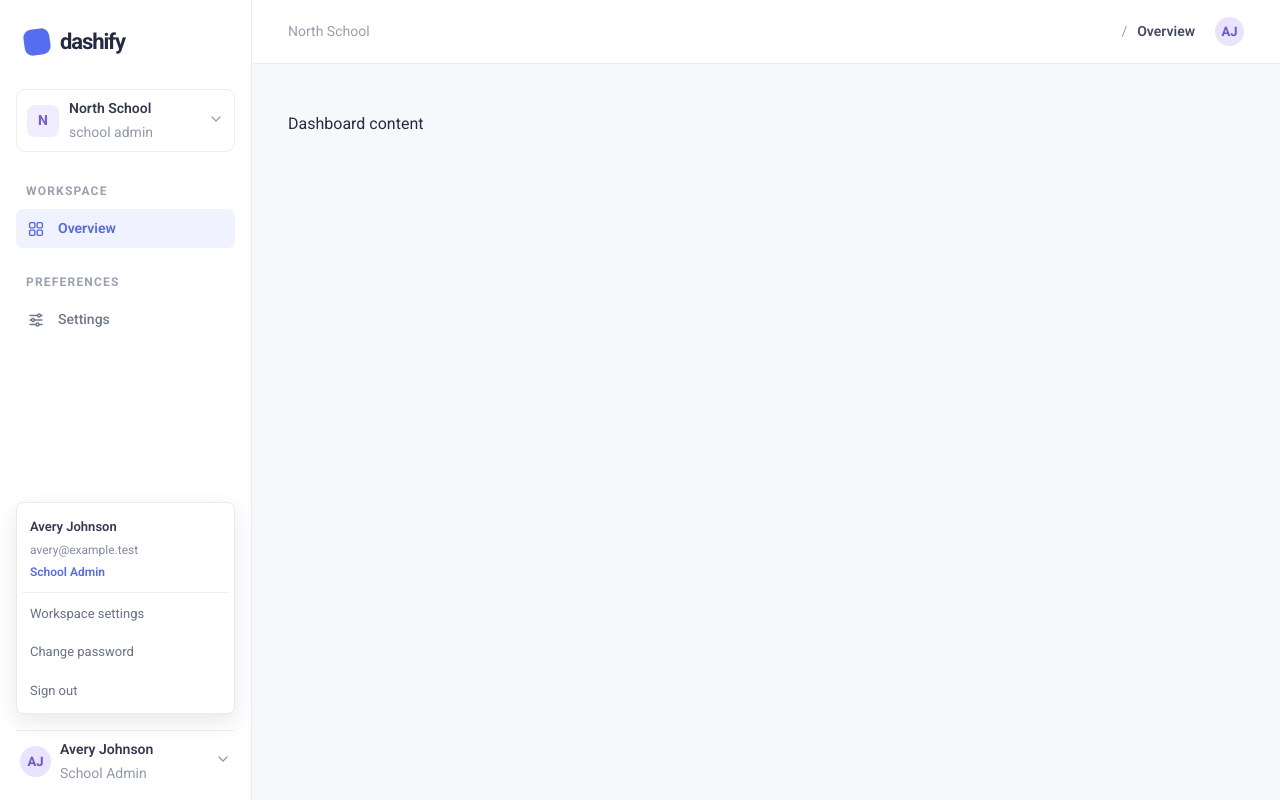
Test: auth session and workspace UI › validates and changes the password from the account popup
Earlier steps of the test are not shown.
Later steps or results of the test are not shown.
Click the button "Change password" at [126, 652], box [22,634,229,670]
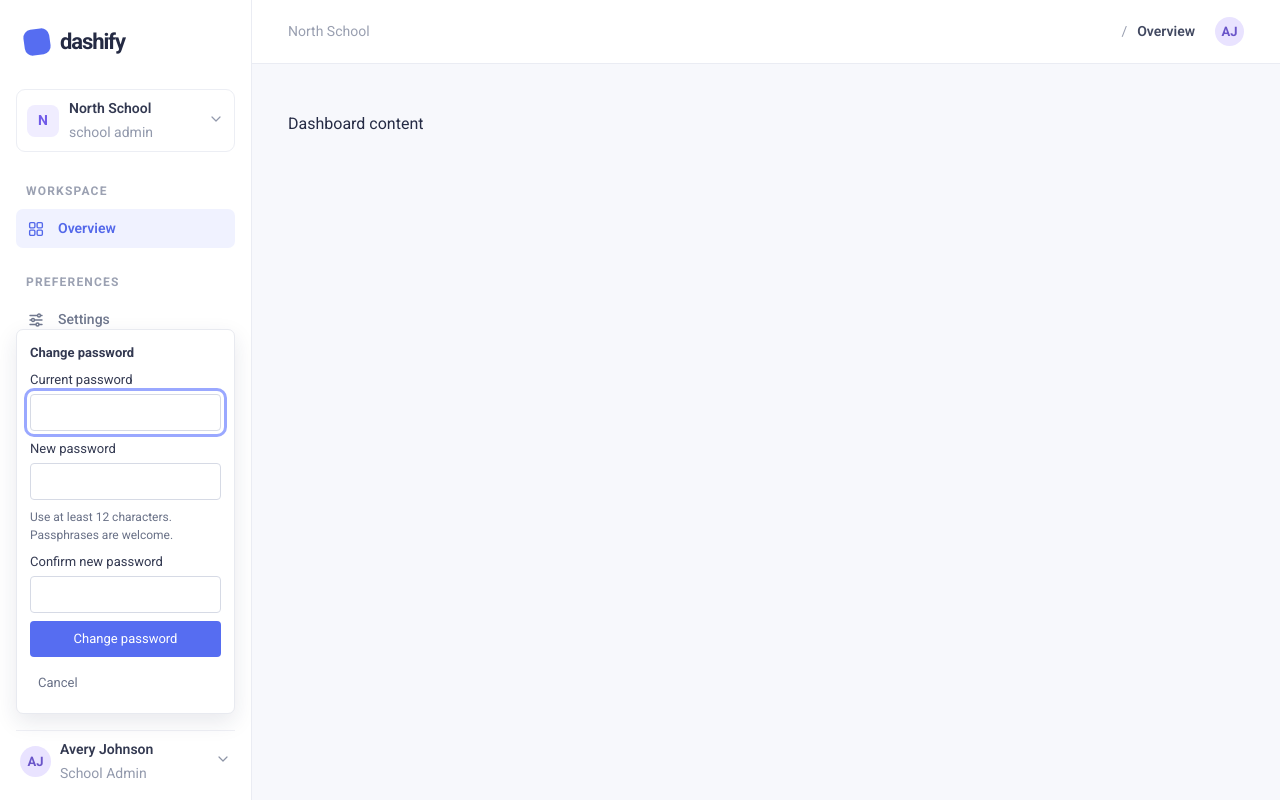
Type "synthetic-old-password" into the password field labelled "Current password" at [126, 412], box [30,394,221,431]
Type "synthetic-new-password" into the password field labelled "New password" at [126, 481], box [30,462,221,500]
Type "different-password" into the password field labelled "Confirm new password" at [126, 594], box [30,576,221,613]
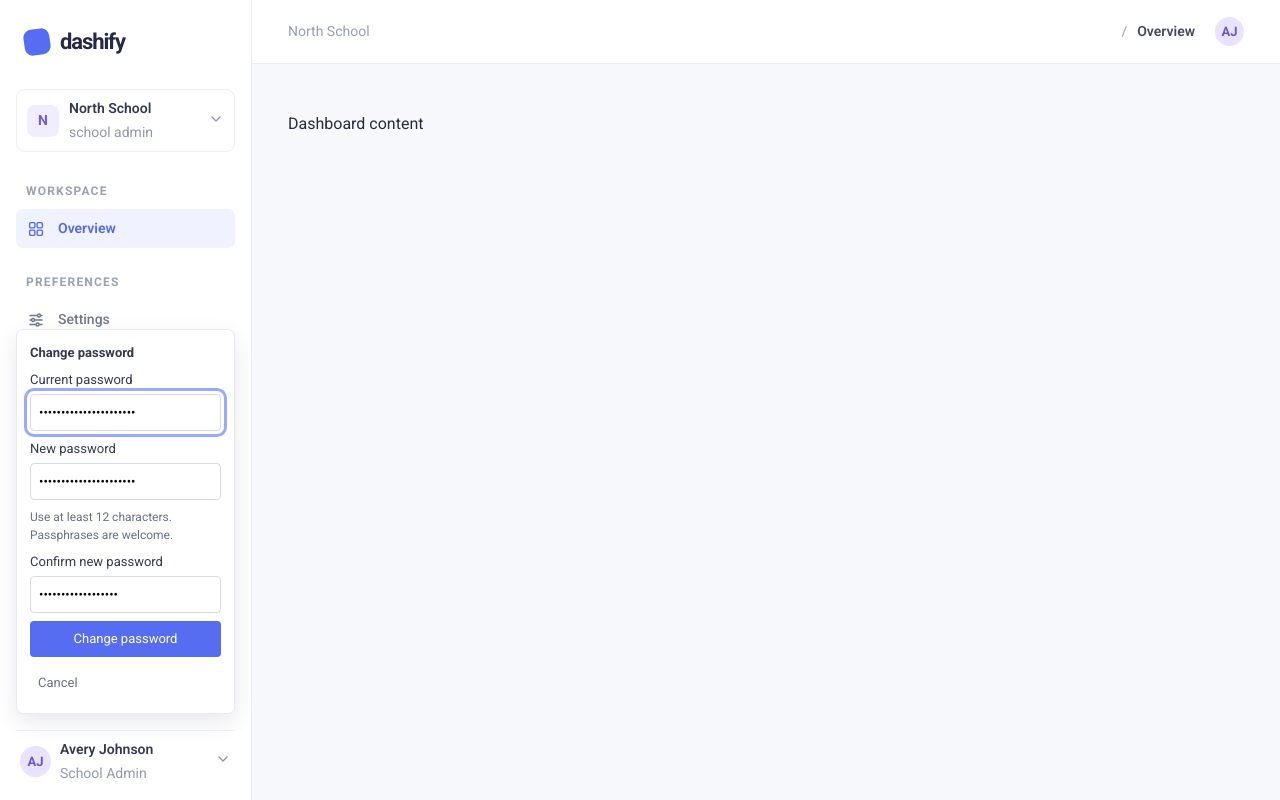
Click the button "Change password" at [126, 639], box [30,621,221,656]
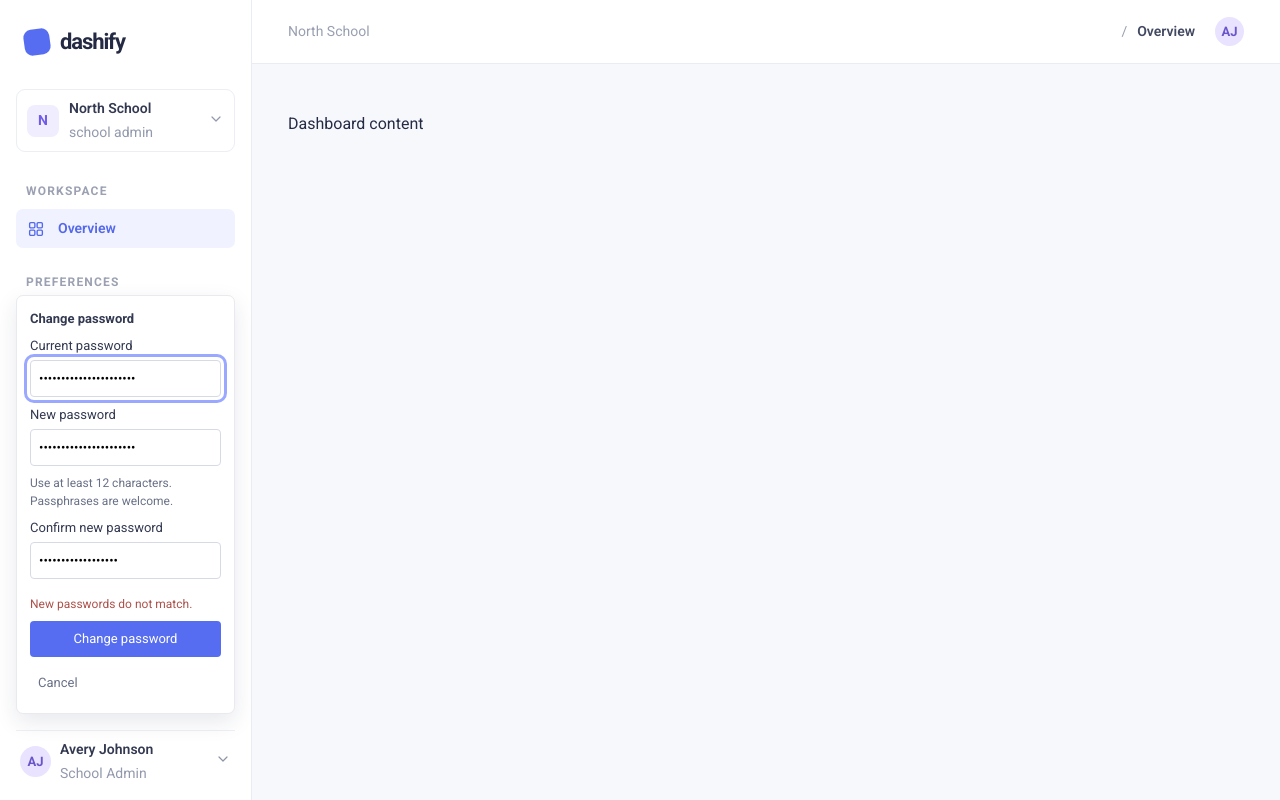
Check: the message reads "New passwords do not match.", box [30,597,192,611]
Type "synthetic-new-password" into the password field labelled "Confirm new password" at [126, 560], box [30,542,221,579]
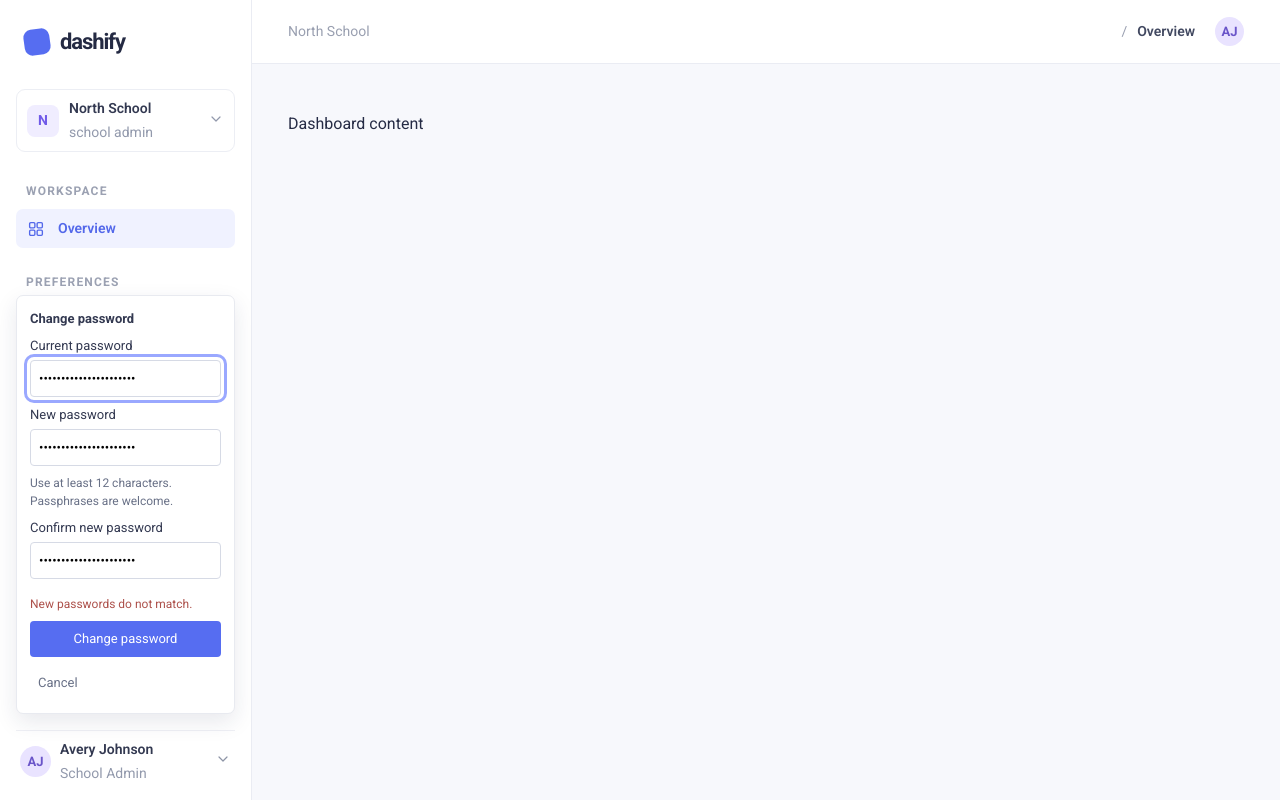
Click the button "Change password" at [126, 639], box [30,621,221,656]
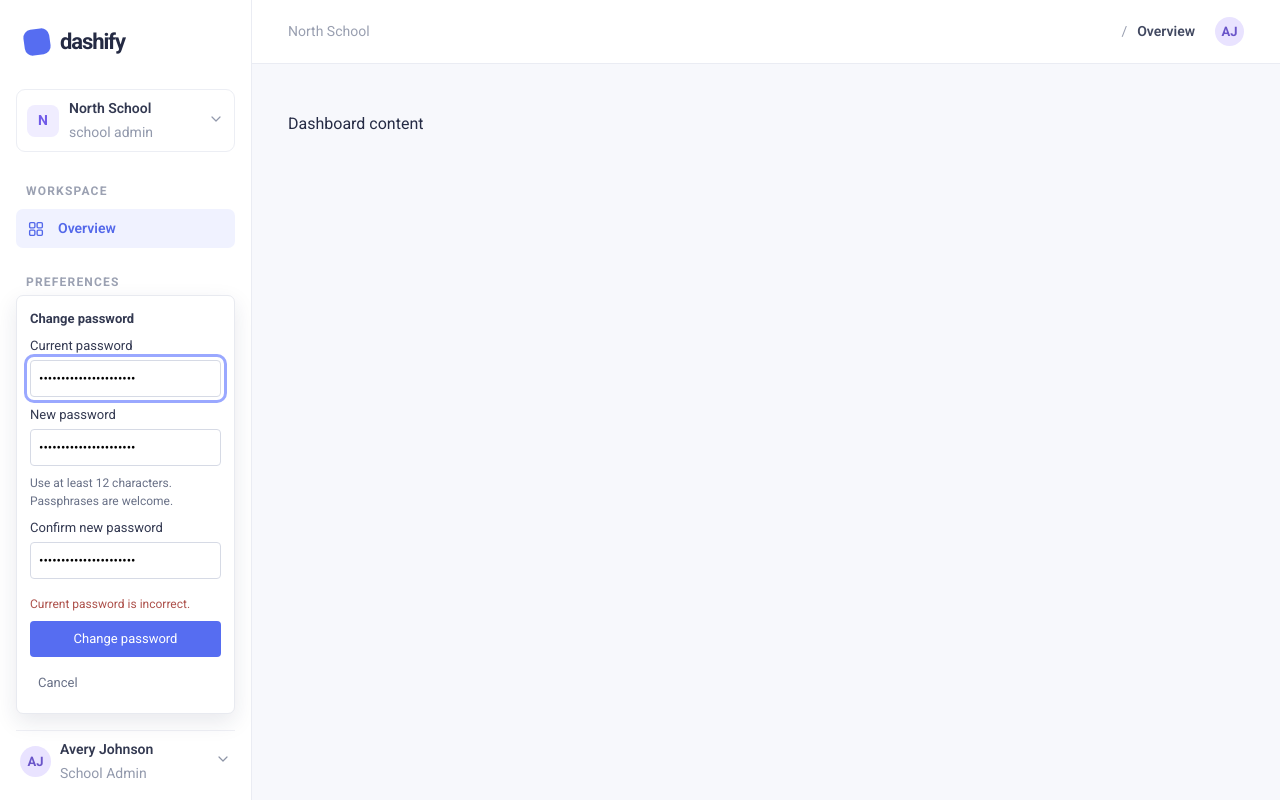
Check: the message reads "Current password is incorrect.", box [30,597,190,611]
Click the button "Change password" at [126, 639], box [30,621,221,656]
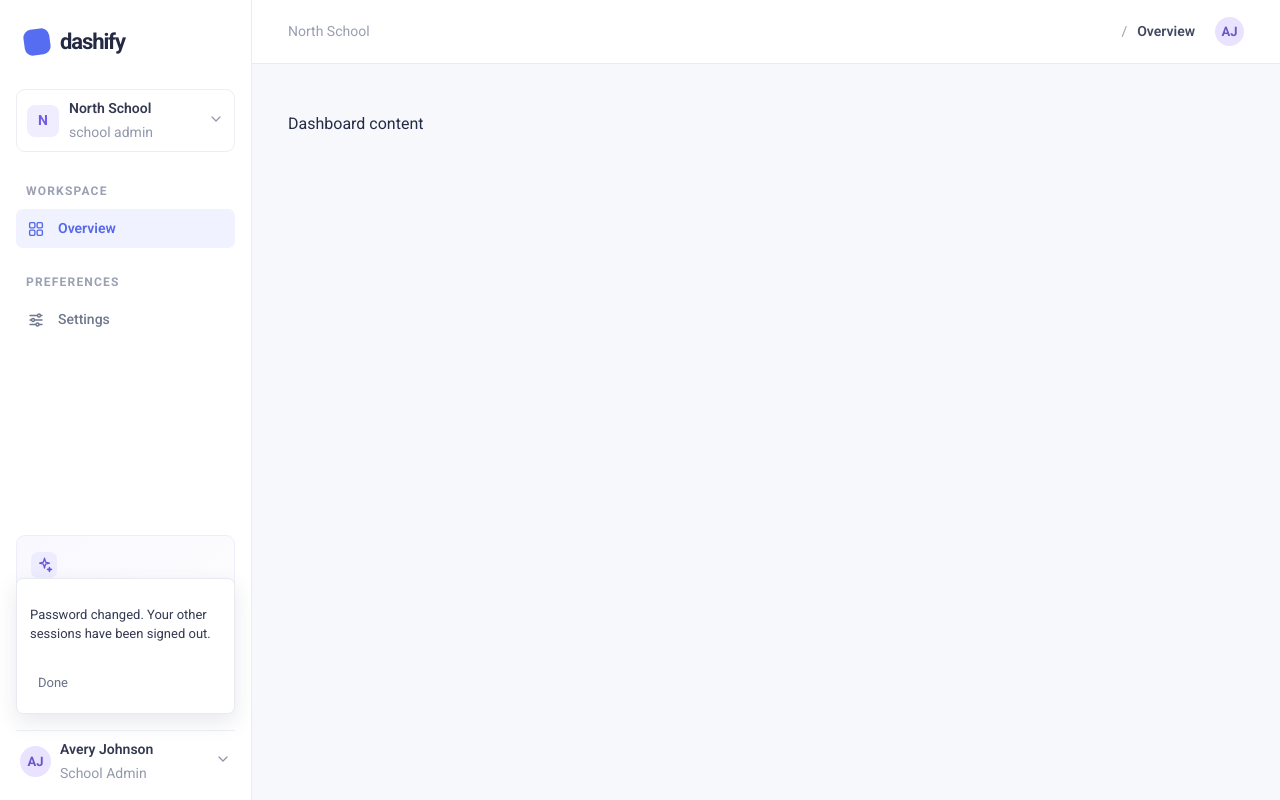
Check: the message shows "other sessions have been signed out", box [30,606,211,641]
Check: the label labelled "Current password" is gone
